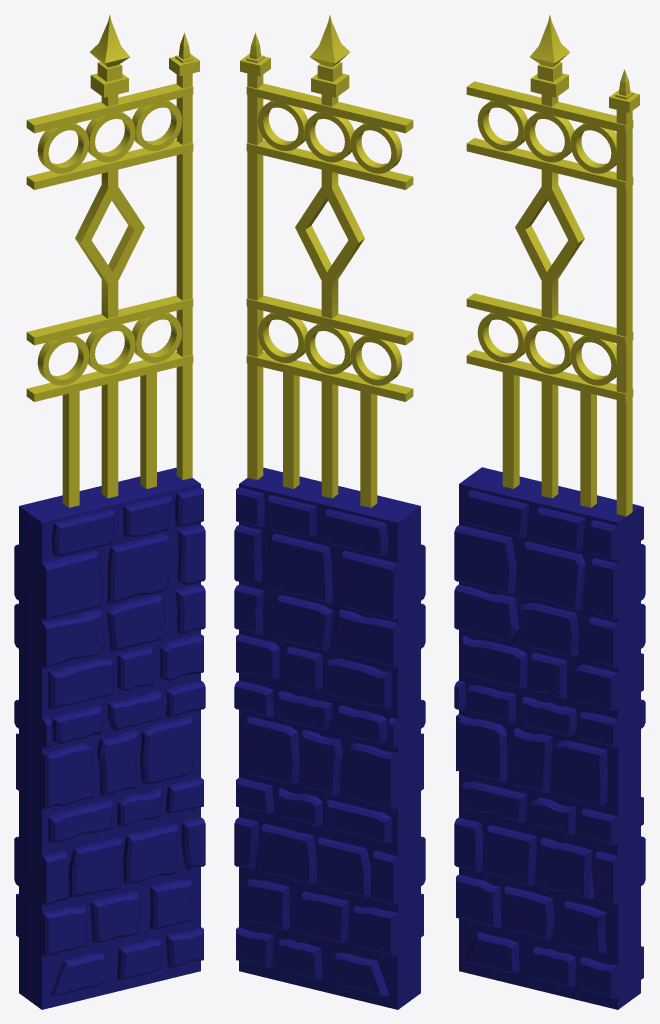
The model's file is SM_fence2.fbx.
3 views of the same model, side by side, from view 1: azimuth 30°, elevation 25°; view 2: azimuth 150°, elevation 25°; view 3: azimuth 330°, elevation 25° (orthographic).
Parts seen in each view (by area): view 1: Plane007, GRILLAGE009, Object001; view 2: Plane007, GRILLAGE009; view 3: Plane007, GRILLAGE009.
Boxes of the visible parts, x1,y1,x2,y2 form: Plane007: (14, 467, 205, 1009); GRILLAGE009: (26, 15, 199, 507); Object001: (177, 36, 198, 479); Plane007: (234, 467, 425, 1009); GRILLAGE009: (240, 15, 413, 507); Plane007: (454, 467, 645, 1009); GRILLAGE009: (466, 15, 639, 516).
Size of the model in its own units: 207 by 1164 by 71.6.
